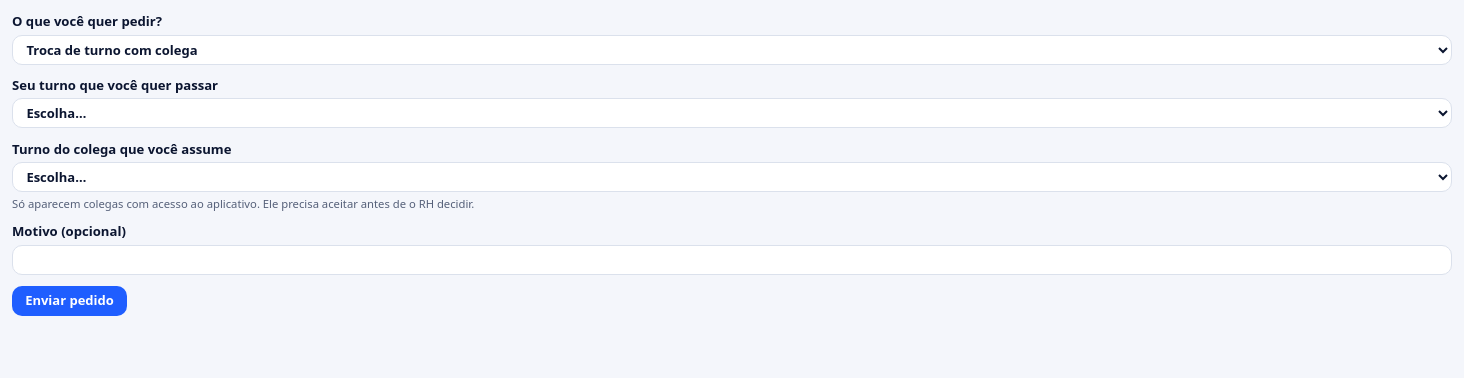
Test: FormPedido › troca de turno: escolhe o seu turno e o do colega e envia
Select "seg, 01/02/2027 · 08:00 às 17:00" in the dropdown labelled "Seu turno que você quer passar" at {"x": 732, "y": 113}, box [12,98,1452,128]
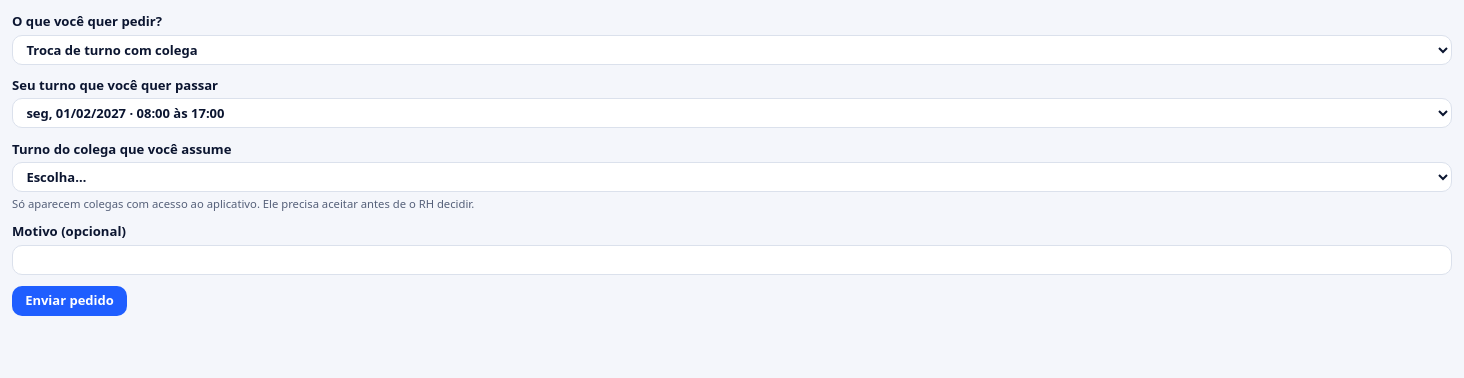
Select "Bia · 01/02/2027 · 12:00–21:00" in the dropdown labelled "Turno do colega que você assume" at {"x": 732, "y": 177}, box [12,162,1452,192]
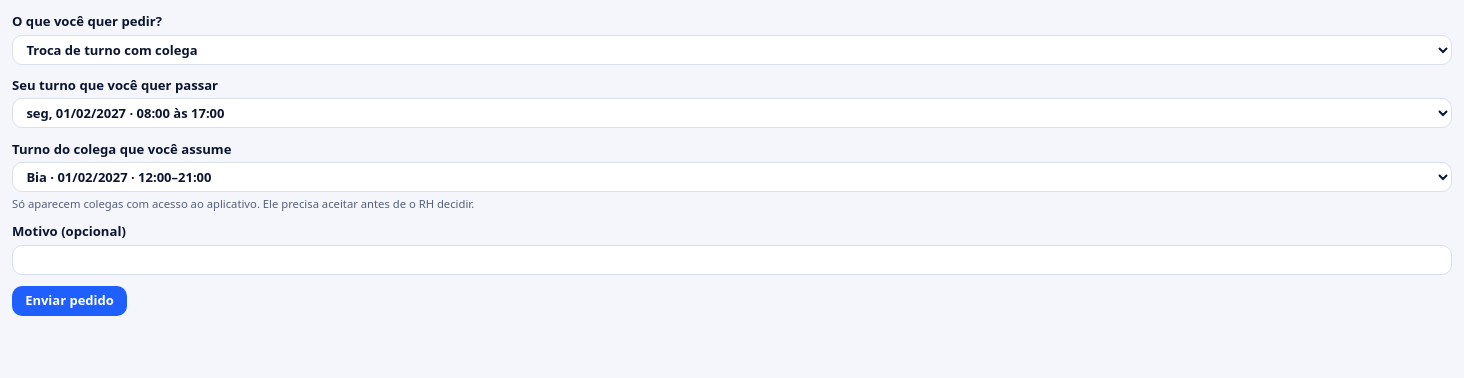
Type "Consulta" into the field labelled "Motivo (opcional)" at {"x": 732, "y": 260}, box [12,244,1452,274]
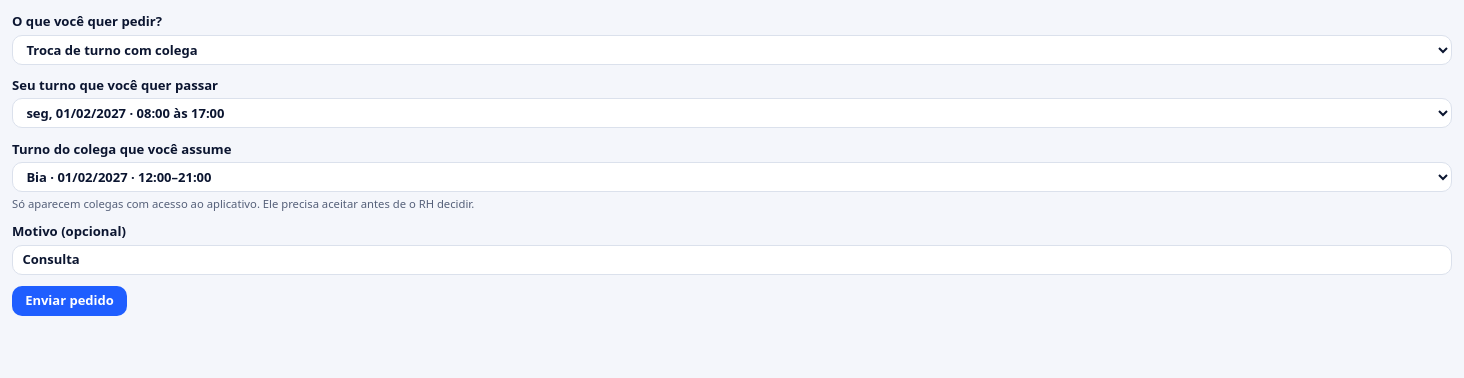
Click the button "Enviar pedido" at {"x": 70, "y": 301}, box [12,286,127,316]
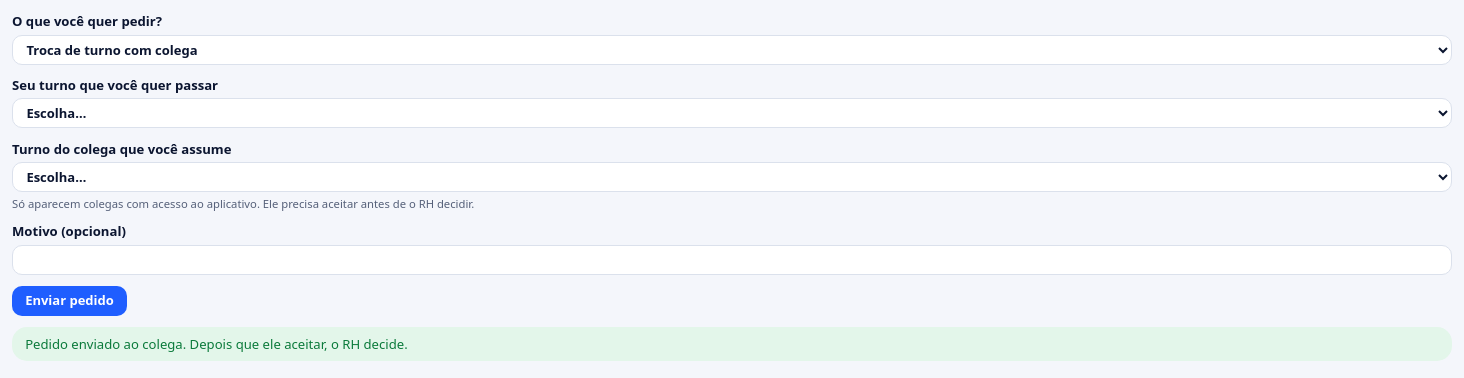
Result: the text "Pedido enviado ao colega. Depois que ele aceitar, o RH decide." is shown at [12,327,1452,361]
